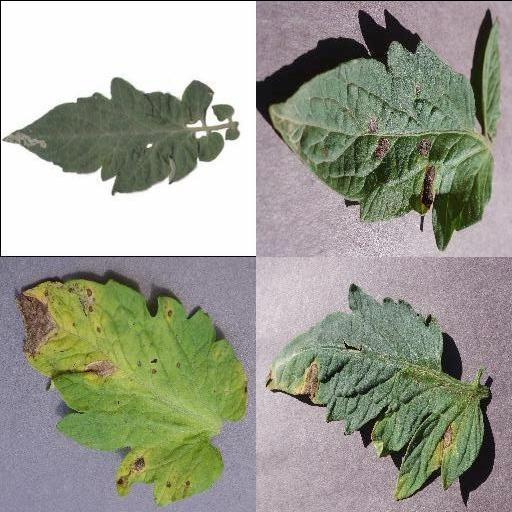Early Blight: (266, 282, 486, 500), (269, 38, 495, 248)
Leaf Miner: (1, 72, 200, 194)
Septoria: (14, 276, 250, 506)
